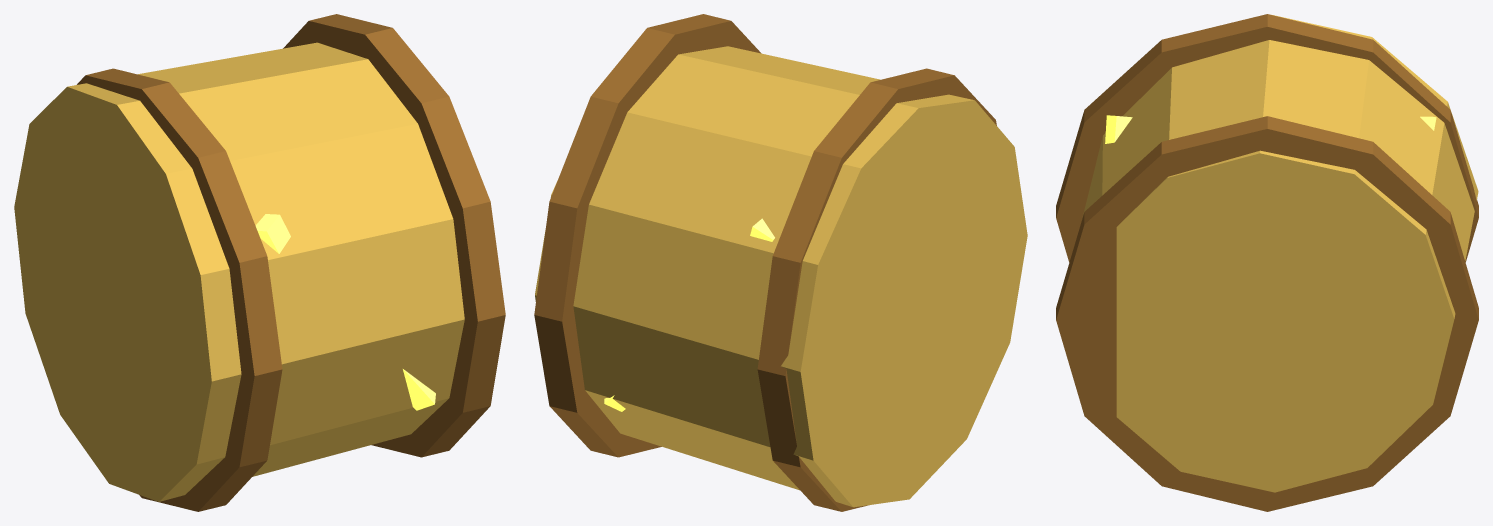
Rendered from vorlaug_bracer_l.glb.
The picture shows the model from 3 angles, left to right: view 1: azimuth 30°, elevation 25°; view 2: azimuth 150°, elevation 25°; view 3: azimuth 270°, elevation 25°; orthographic projection. The views are drawn at different scales.
Visible parts, largest first — view 1: vorlaug_bracer_l; view 2: vorlaug_bracer_l; view 3: vorlaug_bracer_l.
Part boxes in pixels (<box>): vorlaug_bracer_l: <box>14,14,505,511</box>; vorlaug_bracer_l: <box>534,14,1027,511</box>; vorlaug_bracer_l: <box>1056,14,1478,511</box>.
Size of the model in its own units: 0.2628 by 0.35 by 0.35.
